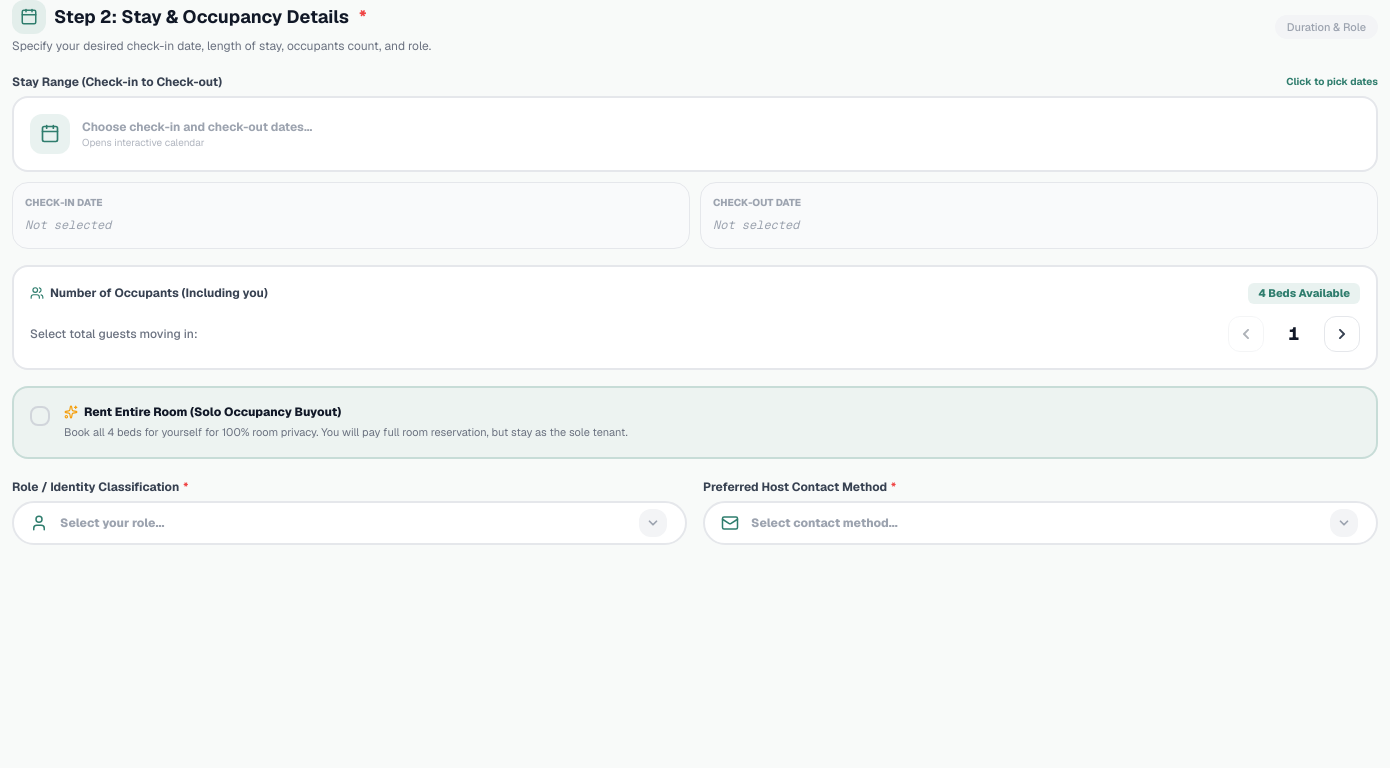
StayStep Component › handles occupant count increment and decrement
The width and height of the screenshot is (1390, 768).
Expected: the text "1" is shown, [1289,322,1299,344]
Expected: the 1st button is disabled, [1228,316,1264,352]
Click the 2nd button at coordinates (1342, 334), box [1324,316,1360,352]
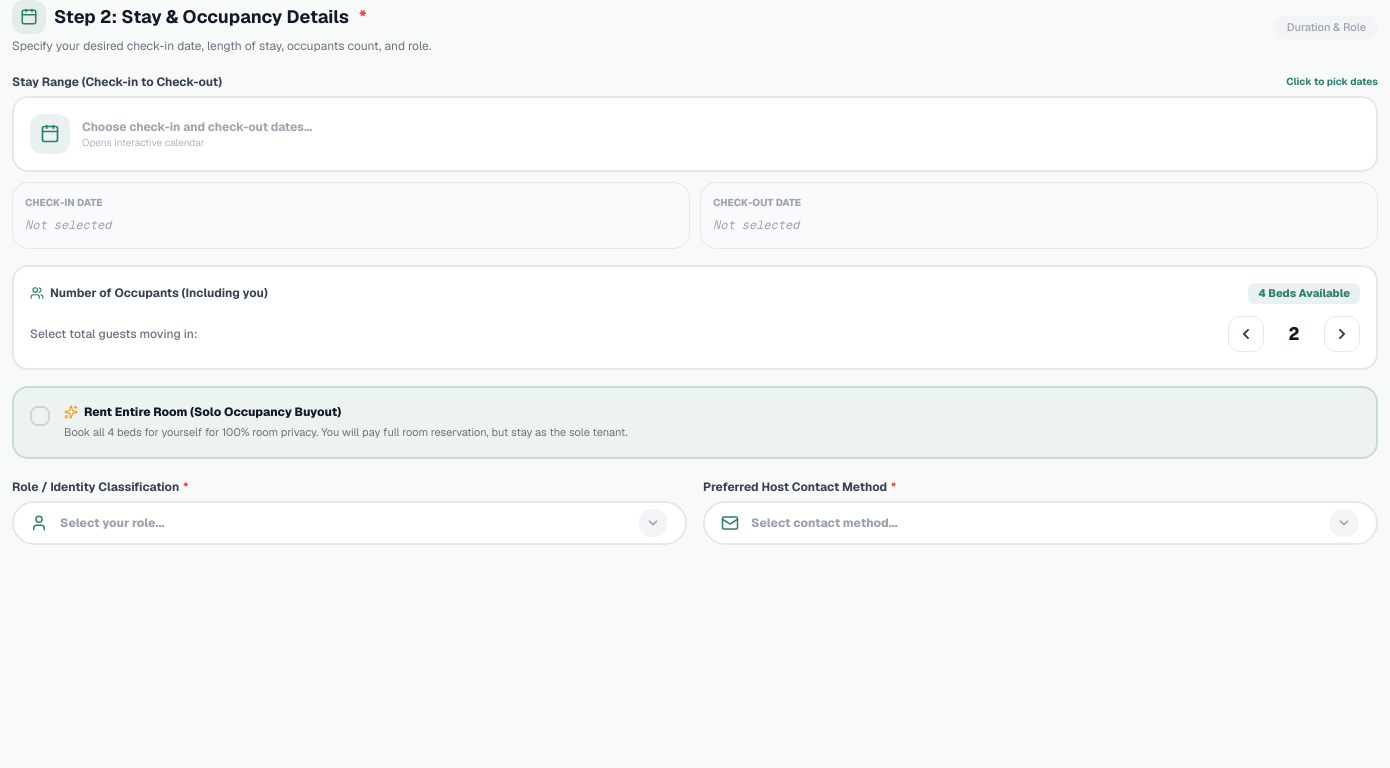
Result: the text "2" is shown at [1289,322,1299,344]
Click the 1st button at coordinates (1246, 334), box [1228,316,1264,352]
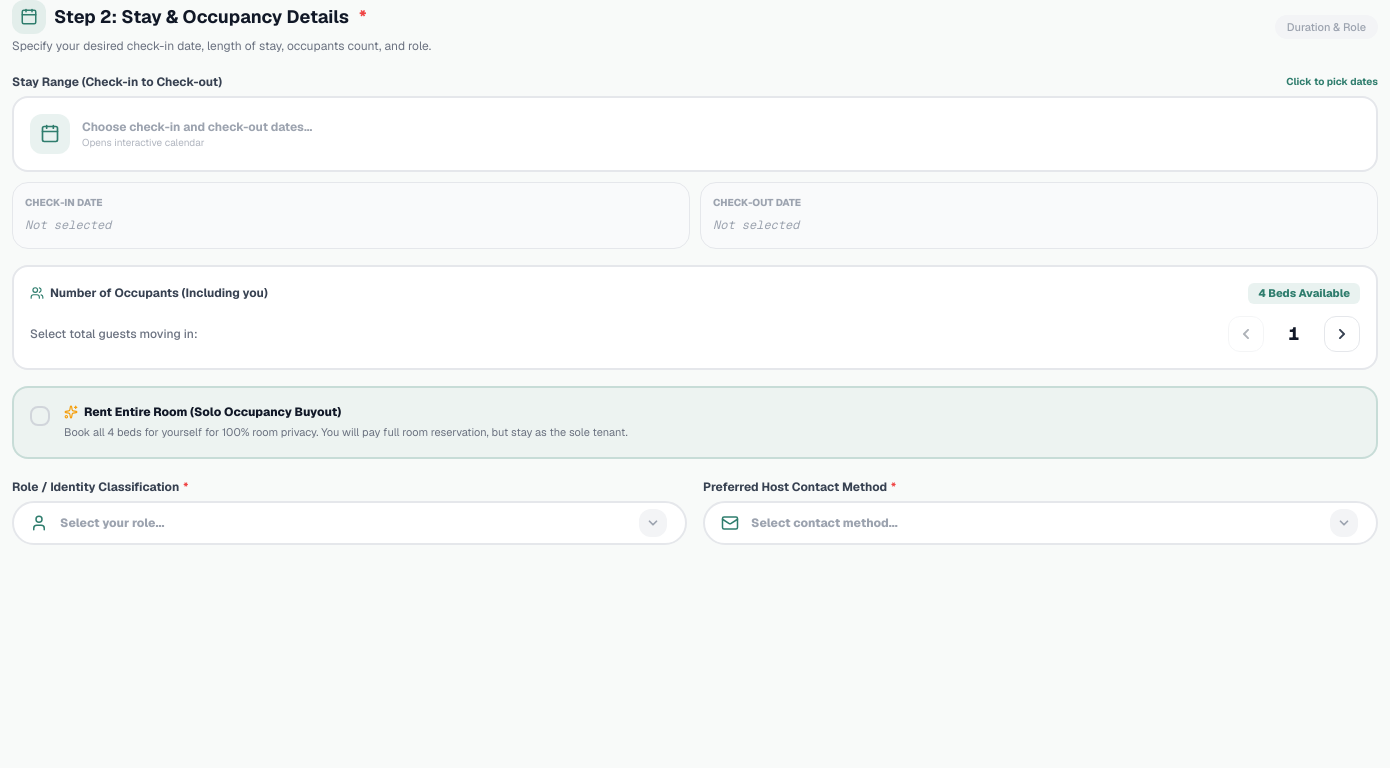
Result: the text "1" is shown at [1289,322,1299,344]
